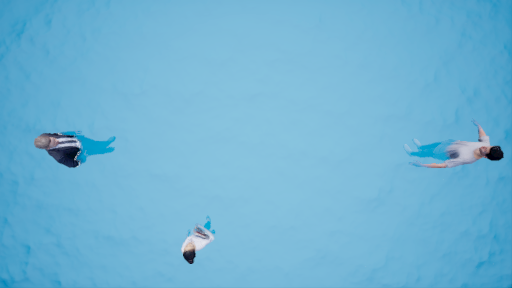person: (402, 115, 508, 173), (34, 129, 117, 168), (177, 212, 221, 265)
